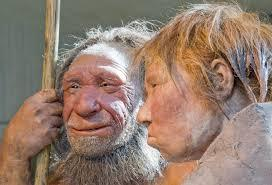Persons: (141, 8, 255, 160), (49, 41, 141, 160)
